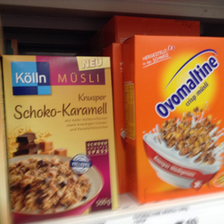cereal: (1, 53, 119, 221), (122, 35, 224, 205)
